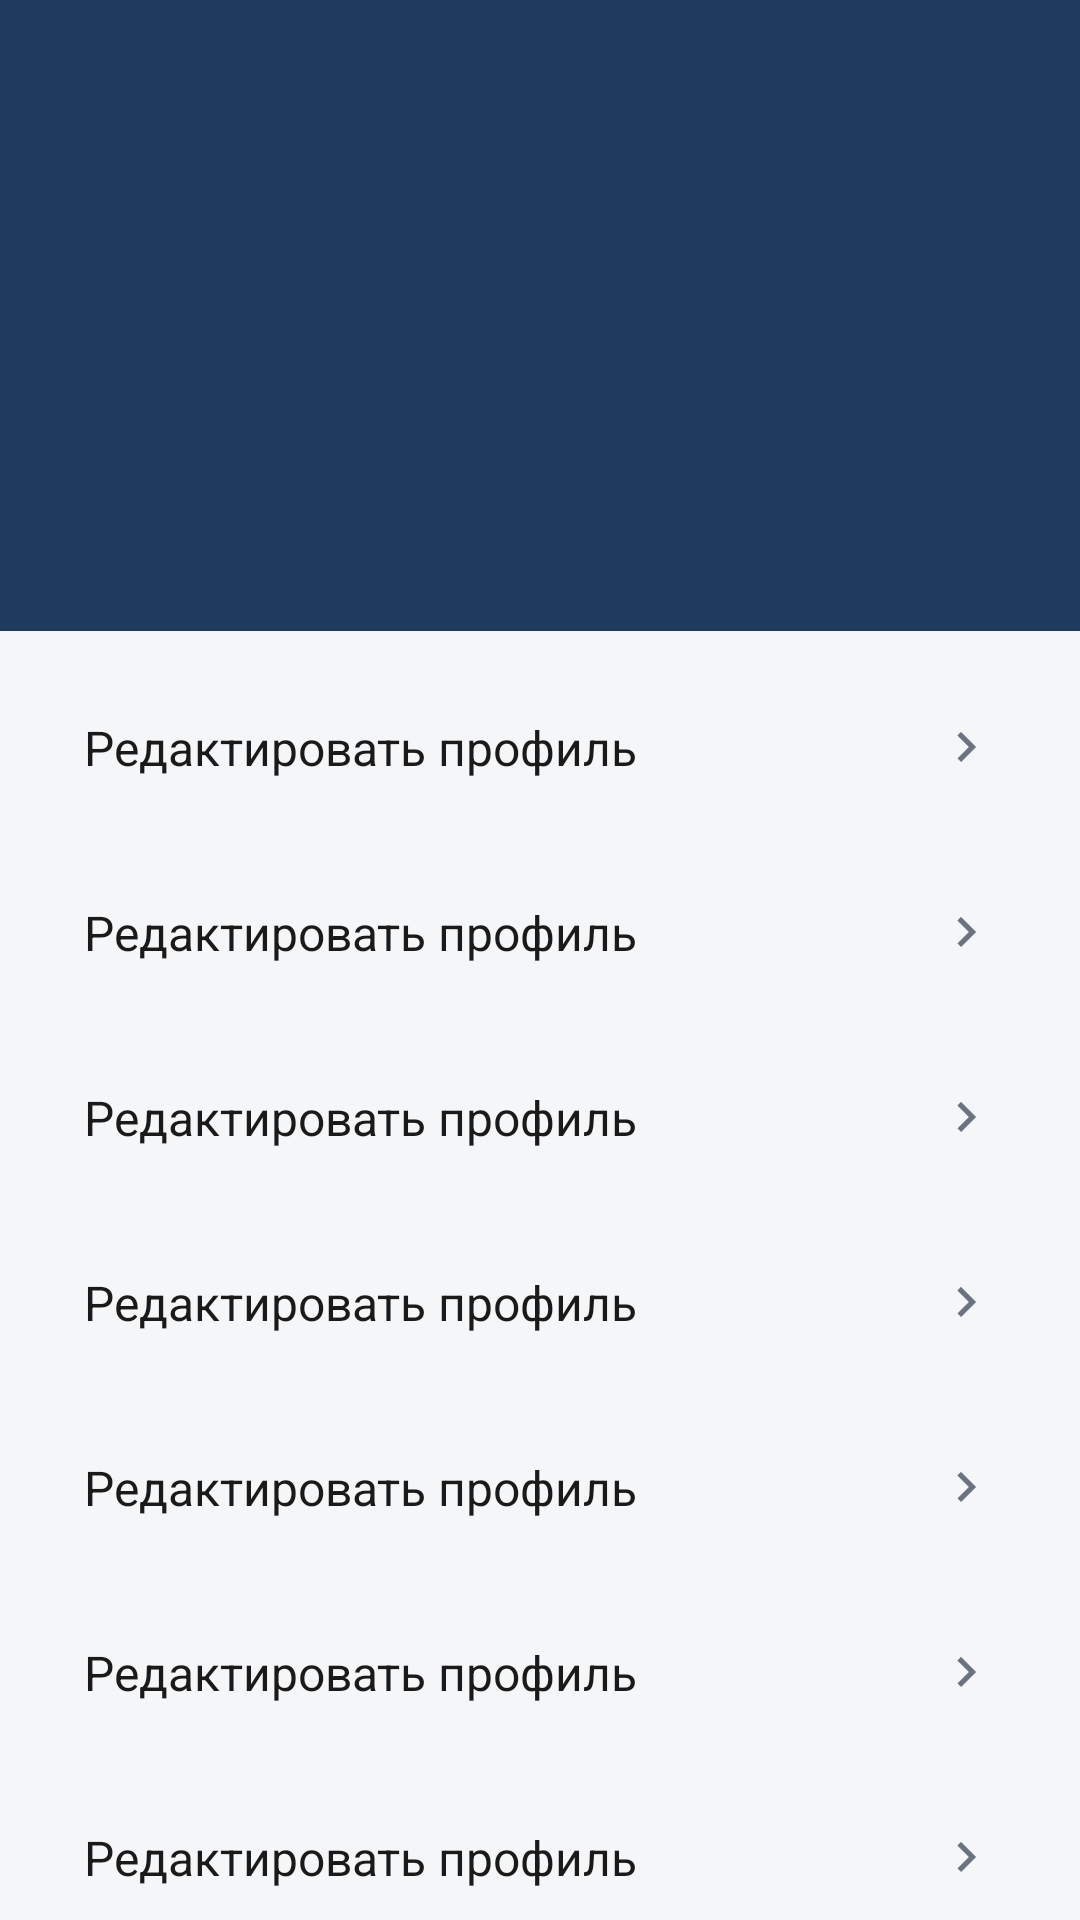

Icon click points for this 1080×1920 phone screenshot, format [x,y]:
arrow right: [966,747], [966,932], [966,1117], [966,1302], [966,1487], [966,1672], [966,1857]
